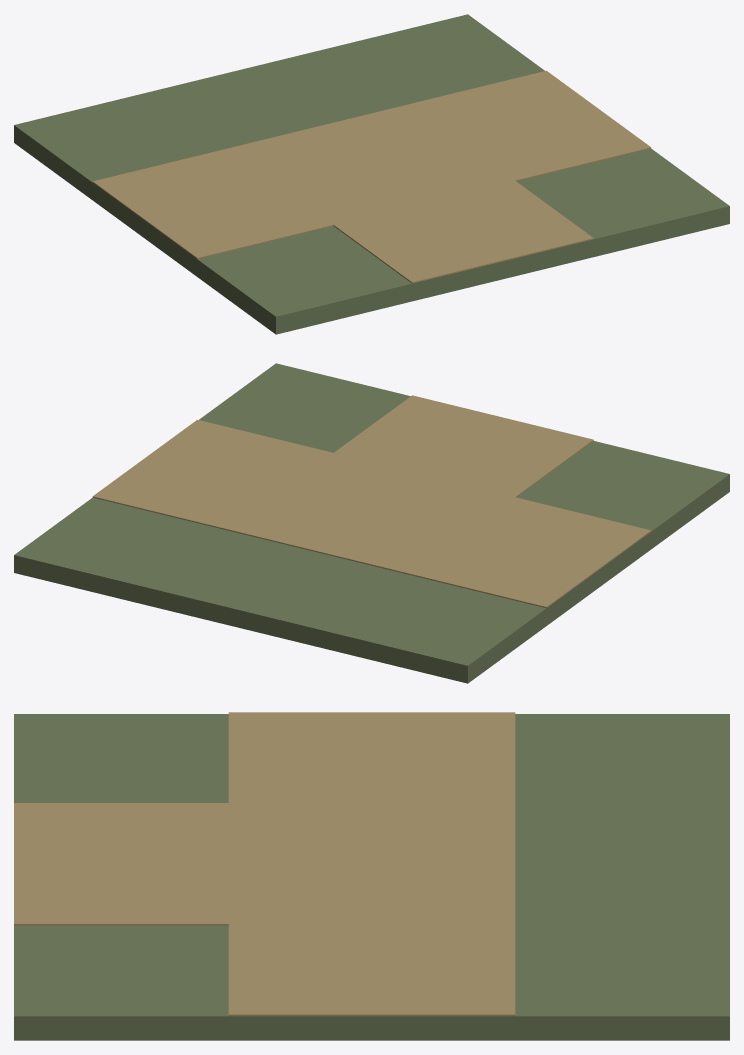
Rendered from terrain_tile_road_t.glb.
3 views of the same model, one above another, from view 1: azimuth 30°, elevation 25°; view 2: azimuth 150°, elevation 25°; view 3: azimuth 270°, elevation 25° (orthographic). The views are drawn at different scales.
Parts seen in each view (by area): view 1: terrain_tile_road_t; view 2: terrain_tile_road_t; view 3: terrain_tile_road_t.
Part boxes in pixels (x1,y1,x2,y2): terrain_tile_road_t: (14, 14, 729, 334); terrain_tile_road_t: (14, 363, 729, 683); terrain_tile_road_t: (14, 712, 729, 1040).
Bounding box in the file's own units: 8 × 0.32 × 8.
